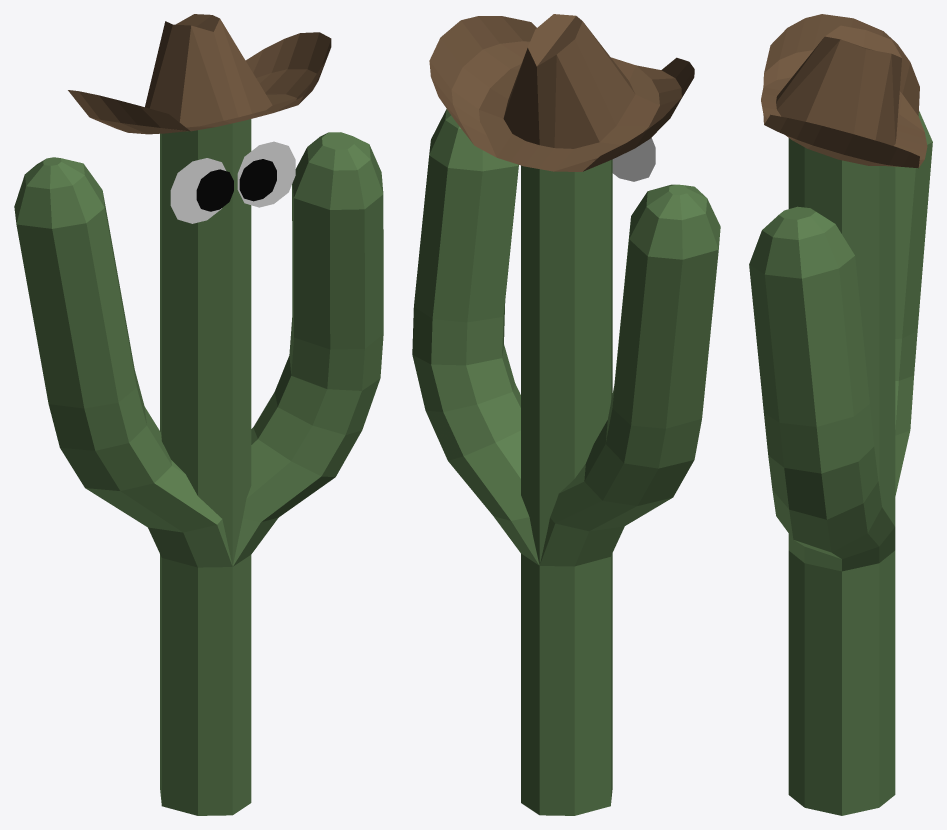
File: cactusCowboy.glb
The picture shows the model from 3 angles, left to right: view 1: azimuth 30°, elevation 25°; view 2: azimuth 150°, elevation 25°; view 3: azimuth 270°, elevation 25°; orthographic projection. The views are drawn at different scales.
Visible parts, largest first — view 1: Cube, Plane.014, Plane, Plane.001, Plane.002, Plane.003; view 2: Cube, Plane.014, Plane; view 3: Cube, Plane.014.
Part boxes in pixels (bbox=[...]): Cube: bbox=[14, 119, 383, 815]; Plane.014: bbox=[68, 14, 331, 134]; Plane: bbox=[170, 158, 225, 223]; Plane.001: bbox=[237, 141, 295, 207]; Plane.002: bbox=[196, 169, 233, 211]; Plane.003: bbox=[239, 159, 276, 201]; Cube: bbox=[412, 109, 720, 815]; Plane.014: bbox=[429, 14, 694, 171]; Plane: bbox=[612, 138, 655, 181]; Cube: bbox=[749, 111, 932, 815]; Plane.014: bbox=[761, 14, 927, 168].
Bounding box in the file's own units: 4.45 × 9.87 × 2.16.
